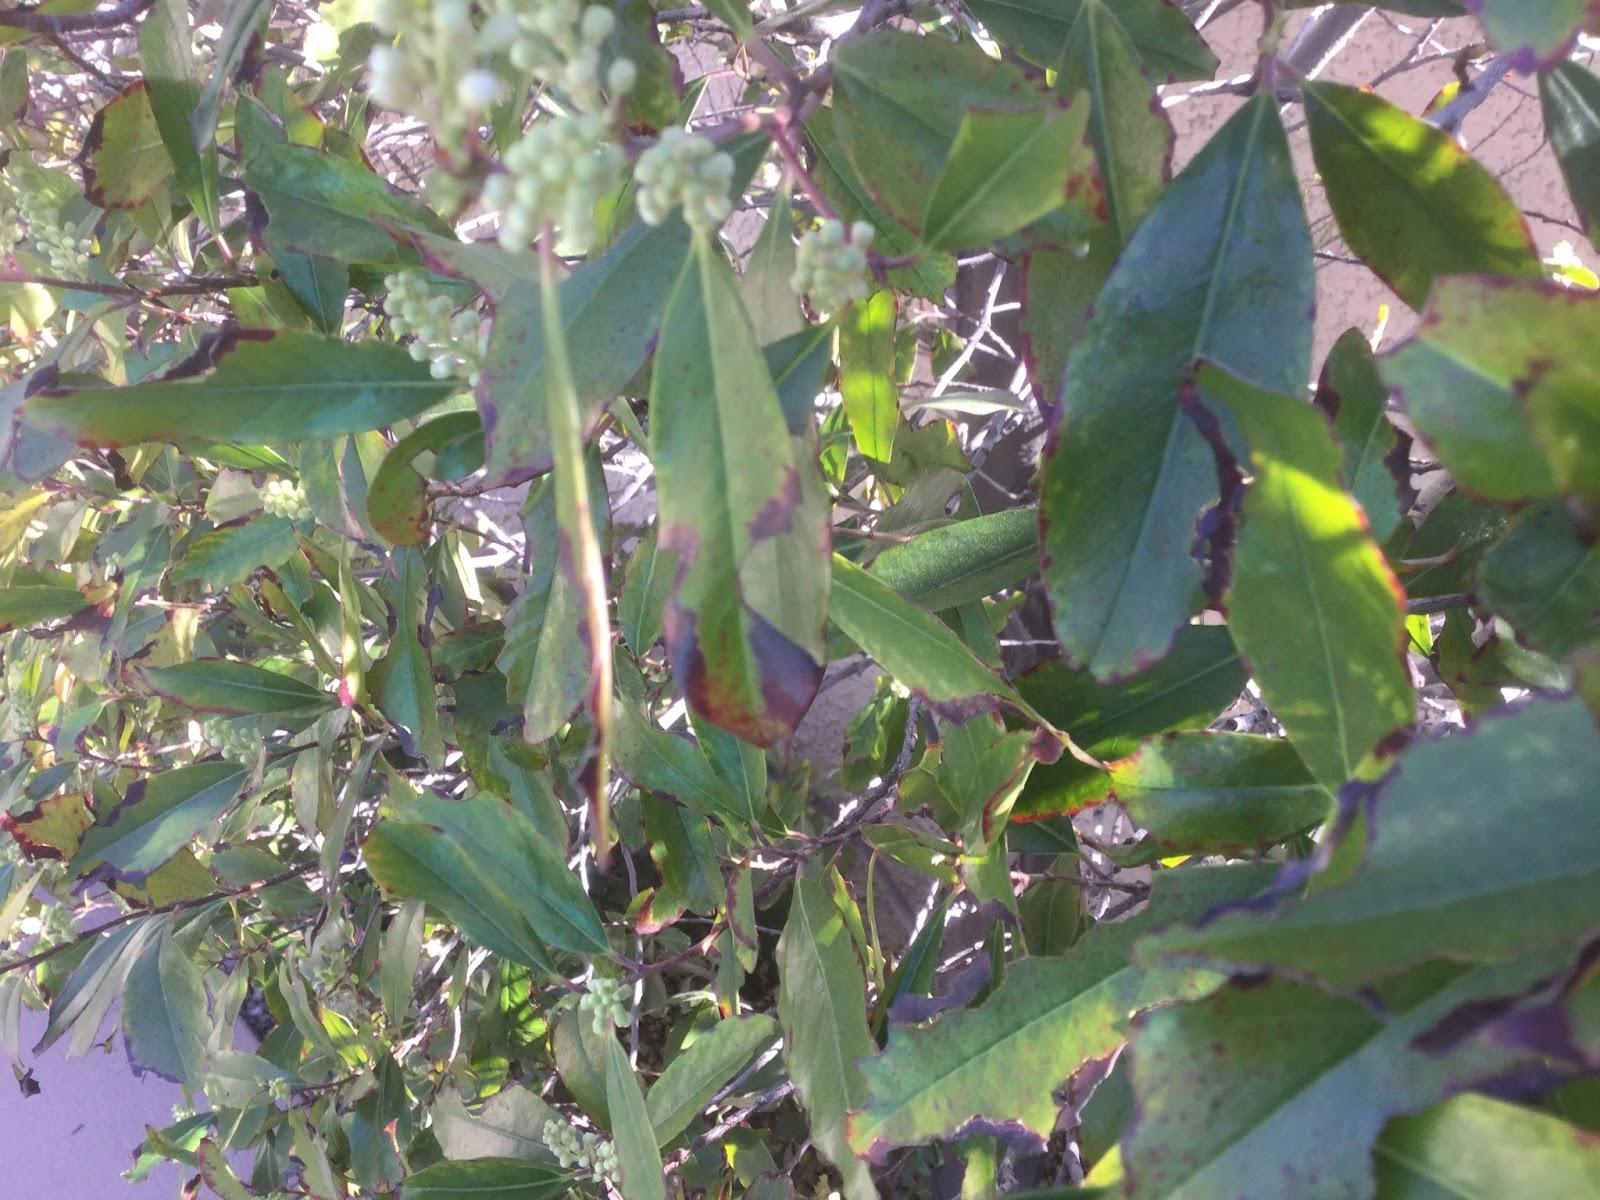Cherry leaf: (1017, 72, 1357, 788), (821, 892, 1332, 1181), (1214, 313, 1460, 868), (627, 211, 853, 784), (316, 739, 658, 1013), (1, 333, 490, 499), (66, 724, 276, 923), (108, 609, 370, 756), (150, 492, 357, 638)
